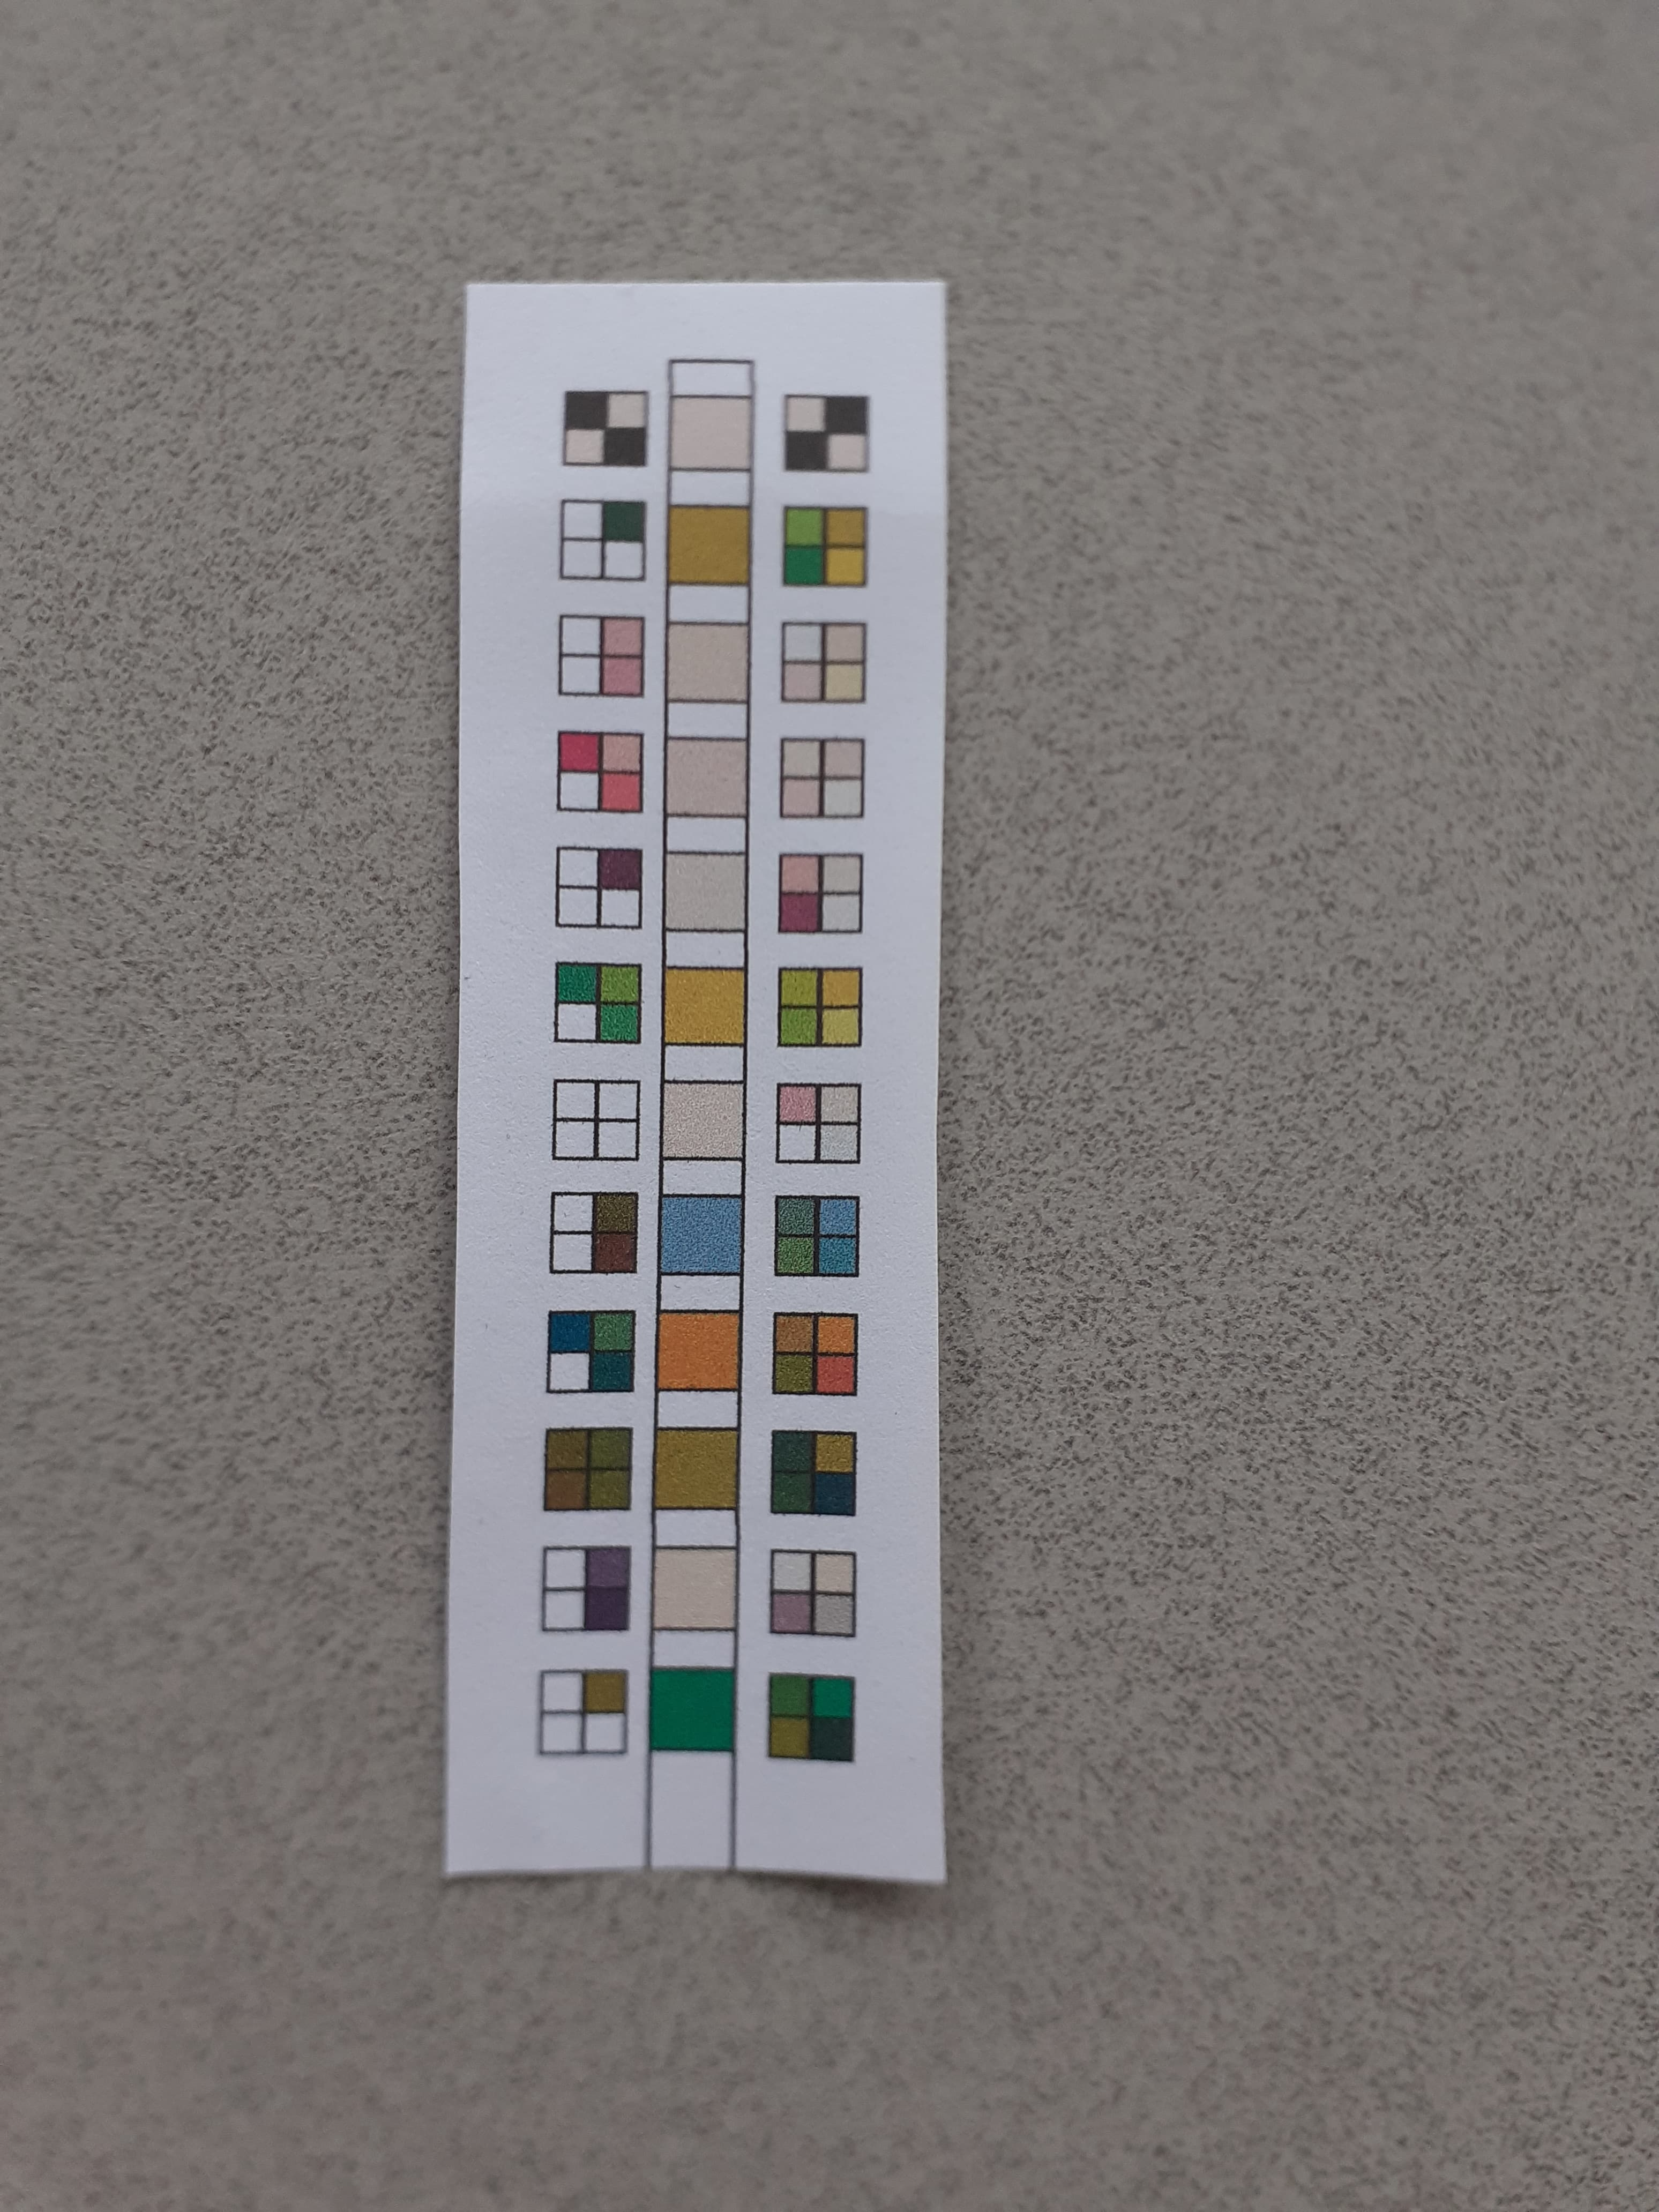tester: (462, 277, 945, 1892)
